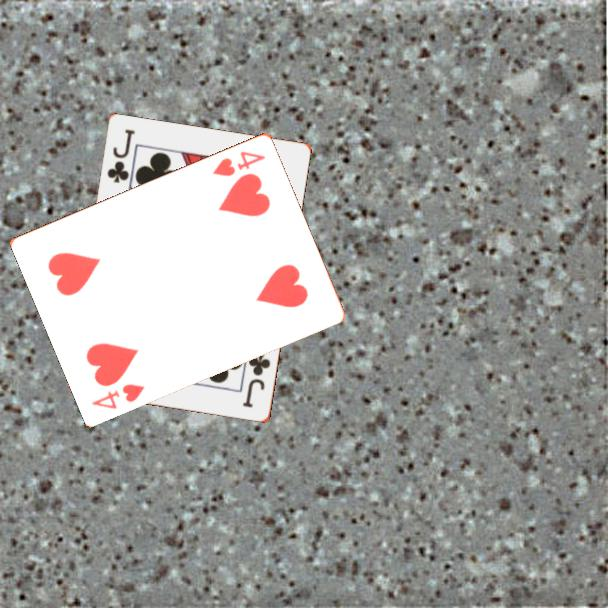c11: (240, 351, 274, 411), (104, 126, 138, 186)
h04: (88, 380, 148, 412), (209, 147, 268, 179)
